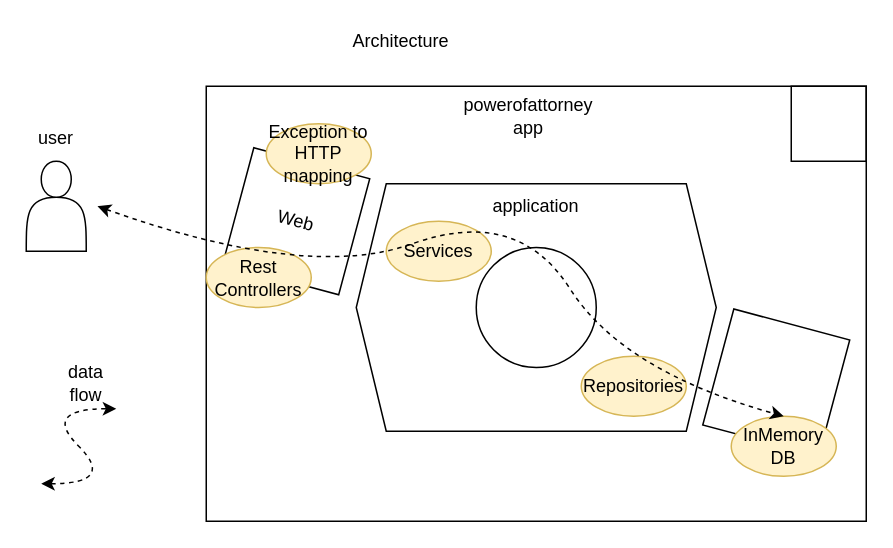
Image size: 893x548. Some labels were removed from this diagram. The centre of each missing label's shape, as x and y in pixels:
"Config" belongs at point 828,123.
"domain" belongs at point 535,307.
"Storage" belongs at point 775,381.
